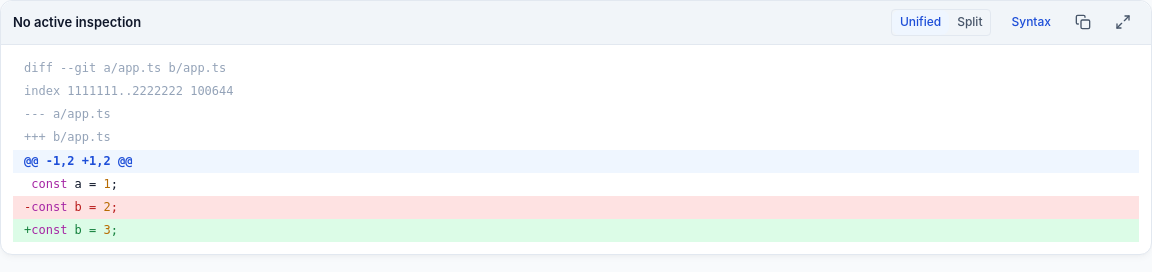
Test: DiffViewer (syntax highlight + toolbar) › renders side-by-side columns after switching to Split
What coordinates should you click on to do the following:
click the button "Split"
I would click on:
 (970, 22)
Its box is [949,10,990,35].
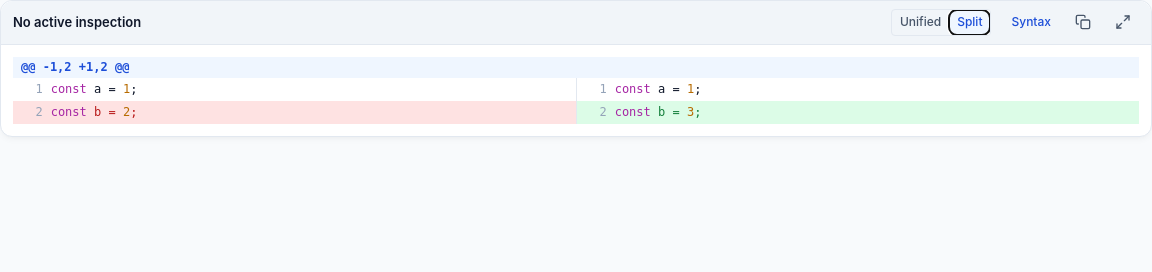
Result: the element with class "diff-split" is shown at [13,57,1139,124]
Result: the element with class "diff-split__cell--del" shows "const b = 2;" at [13,101,576,124]
Result: the element with class "diff-split__cell--add" shows "const b = 3;" at [576,101,1139,124]
